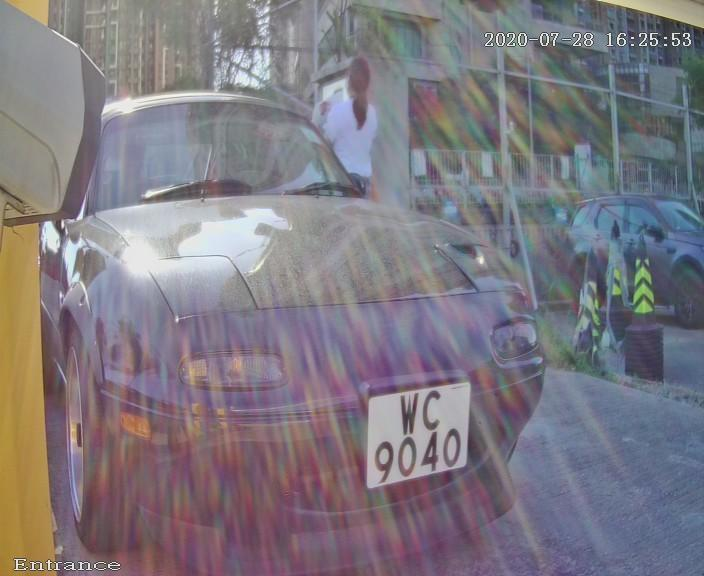privatecar: (26, 16, 679, 564)
